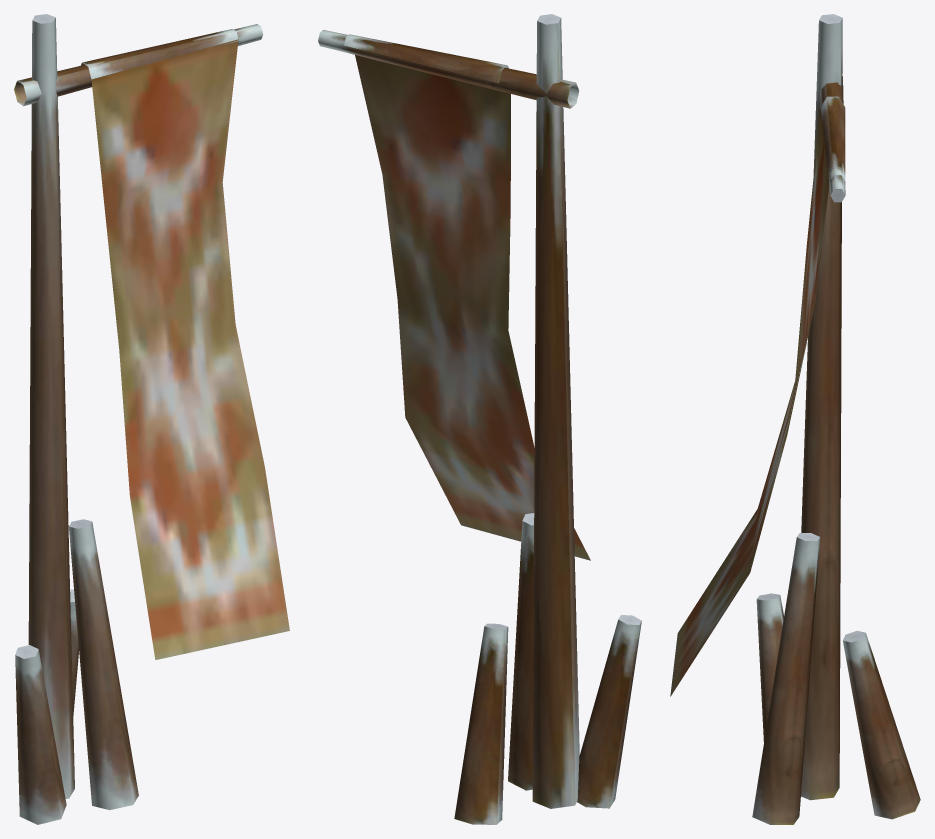
File: h5_qizi_b.FBX
3 views of the same model, side by side, from view 1: azimuth 30°, elevation 25°; view 2: azimuth 150°, elevation 25°; view 3: azimuth 270°, elevation 25° (orthographic). The views are drawn at different scales.
Parts seen in each view (by area): view 1: h5_qizi_b; view 2: h5_qizi_b; view 3: h5_qizi_b.
Part boxes in pixels (box(x1,y1,x2,y2)): h5_qizi_b: box(14, 14, 289, 824); h5_qizi_b: box(318, 14, 641, 824); h5_qizi_b: box(670, 14, 920, 824).
Size of the model in its own units: 1.49 by 3.98 by 1.16.
